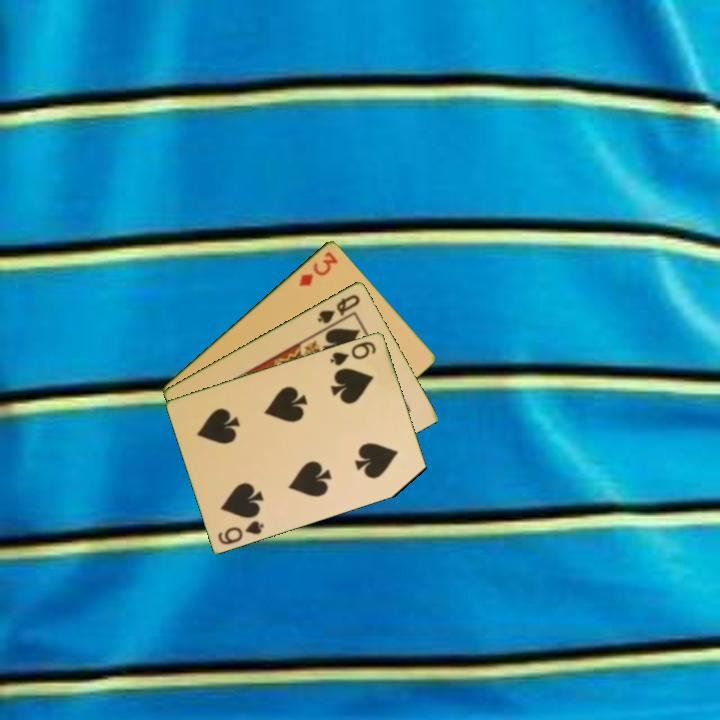3d: (295, 247, 341, 289)
6s: (327, 337, 379, 368), (215, 517, 267, 547)
Qs: (314, 290, 363, 326)
